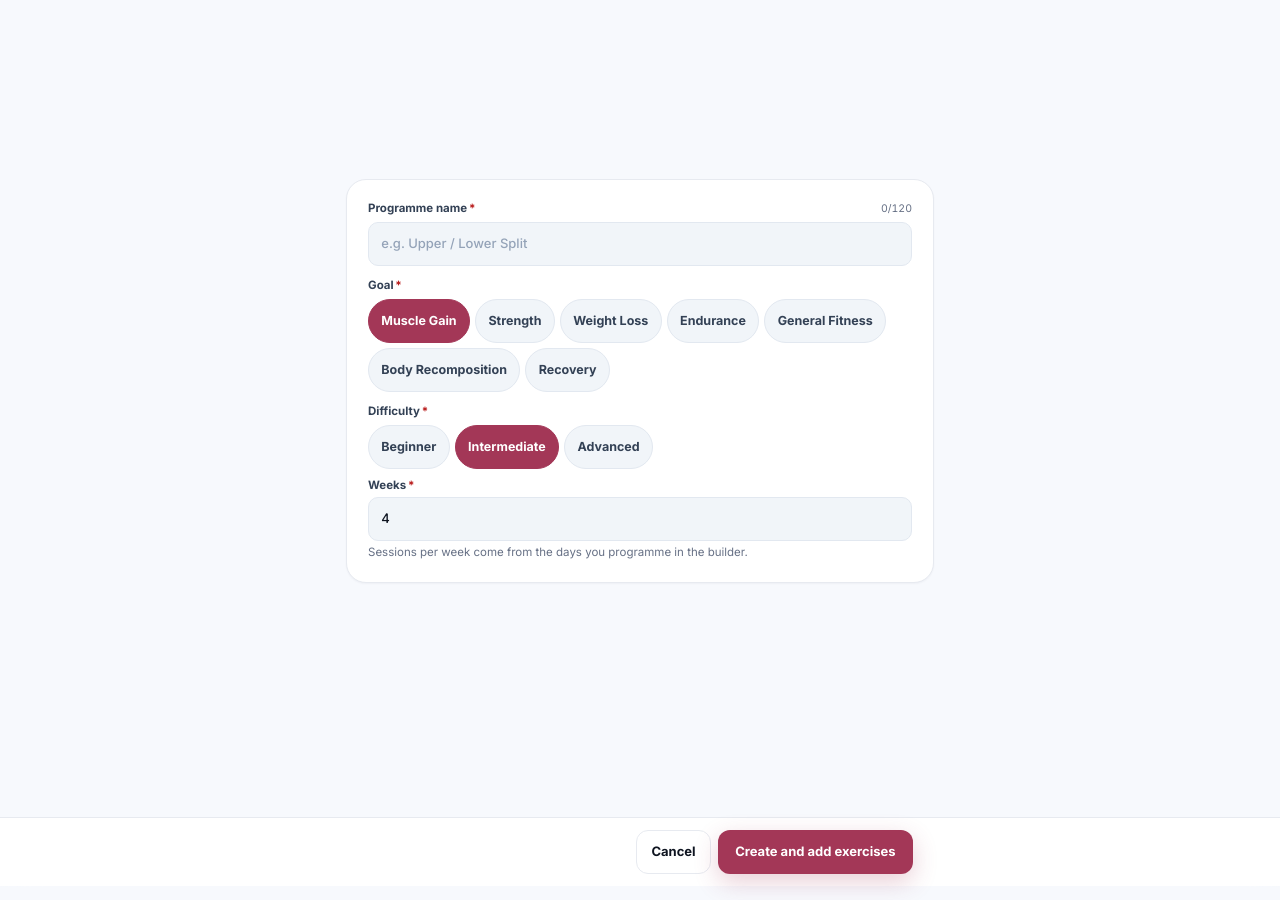
Scenario: NewProgrammeForm — the replacement for the deleted wizard › keeps the form on screen and shows the server error when creation fails
In the field with placeholder "e.g. Upper / Lower Split": (640, 244) 368,222 -> 912,266, type "Upper / Lower"
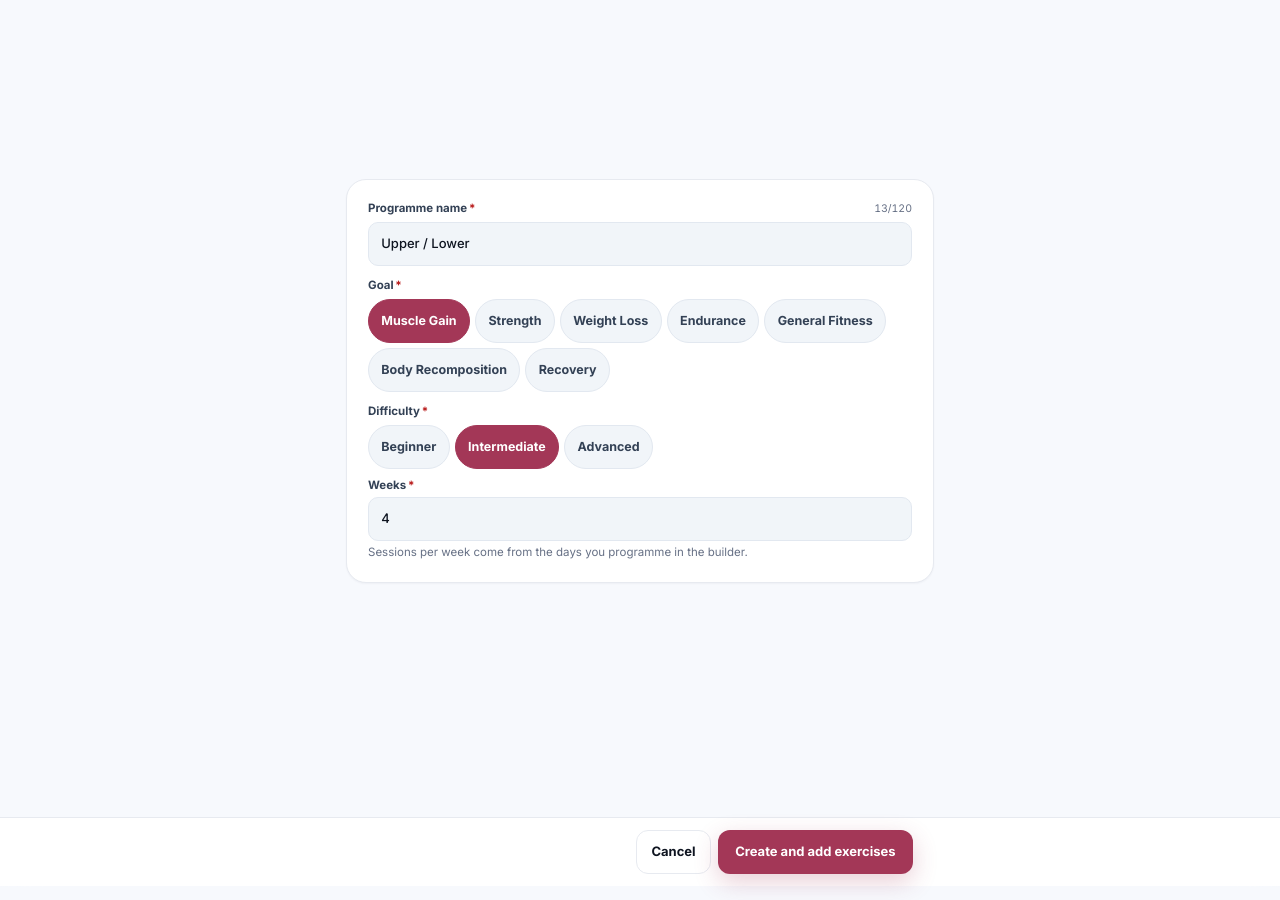
Click the button "Create and add exercises": (815, 852) 718,830 -> 913,874
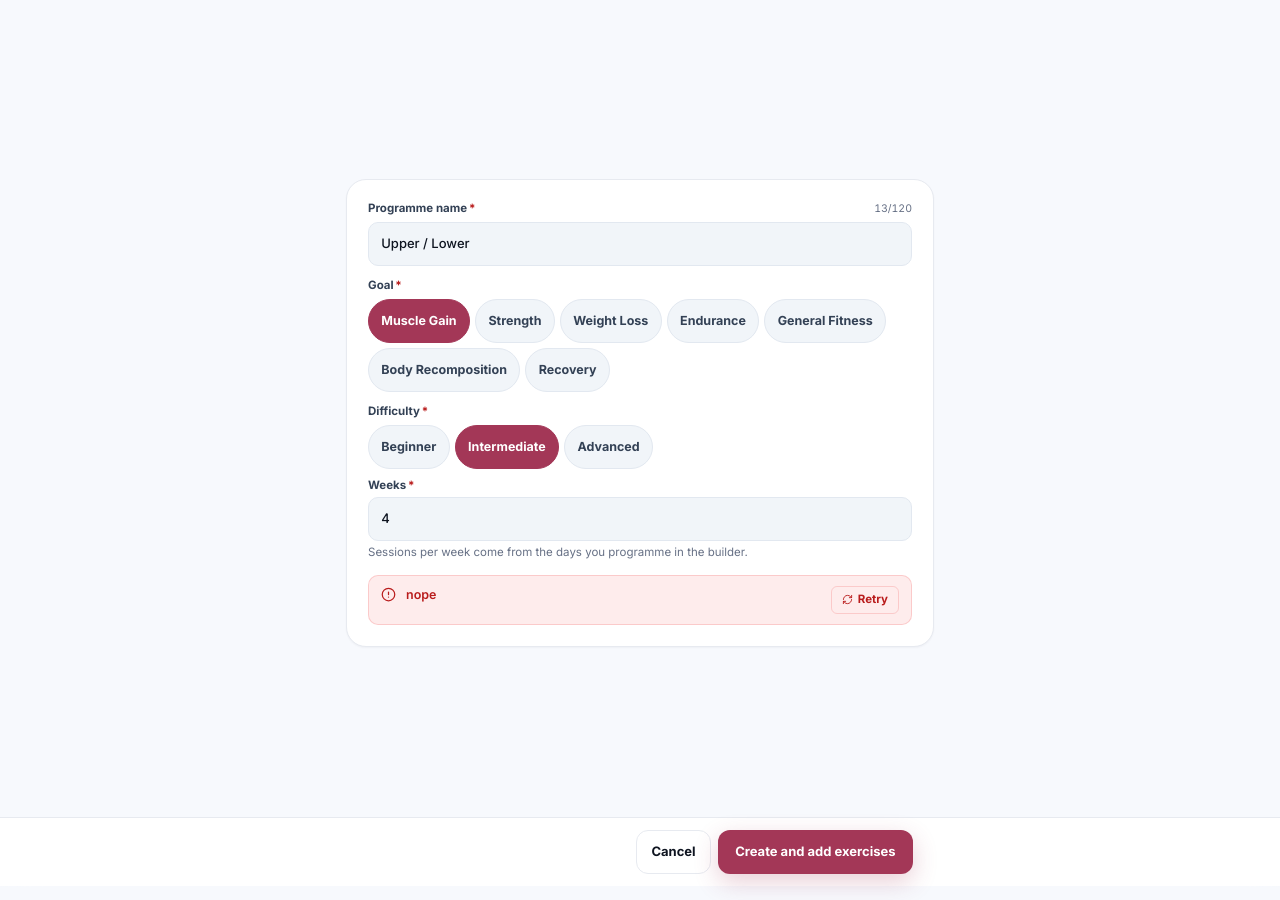
Check: the text "nope" is shown, box 406,587 -> 436,602
